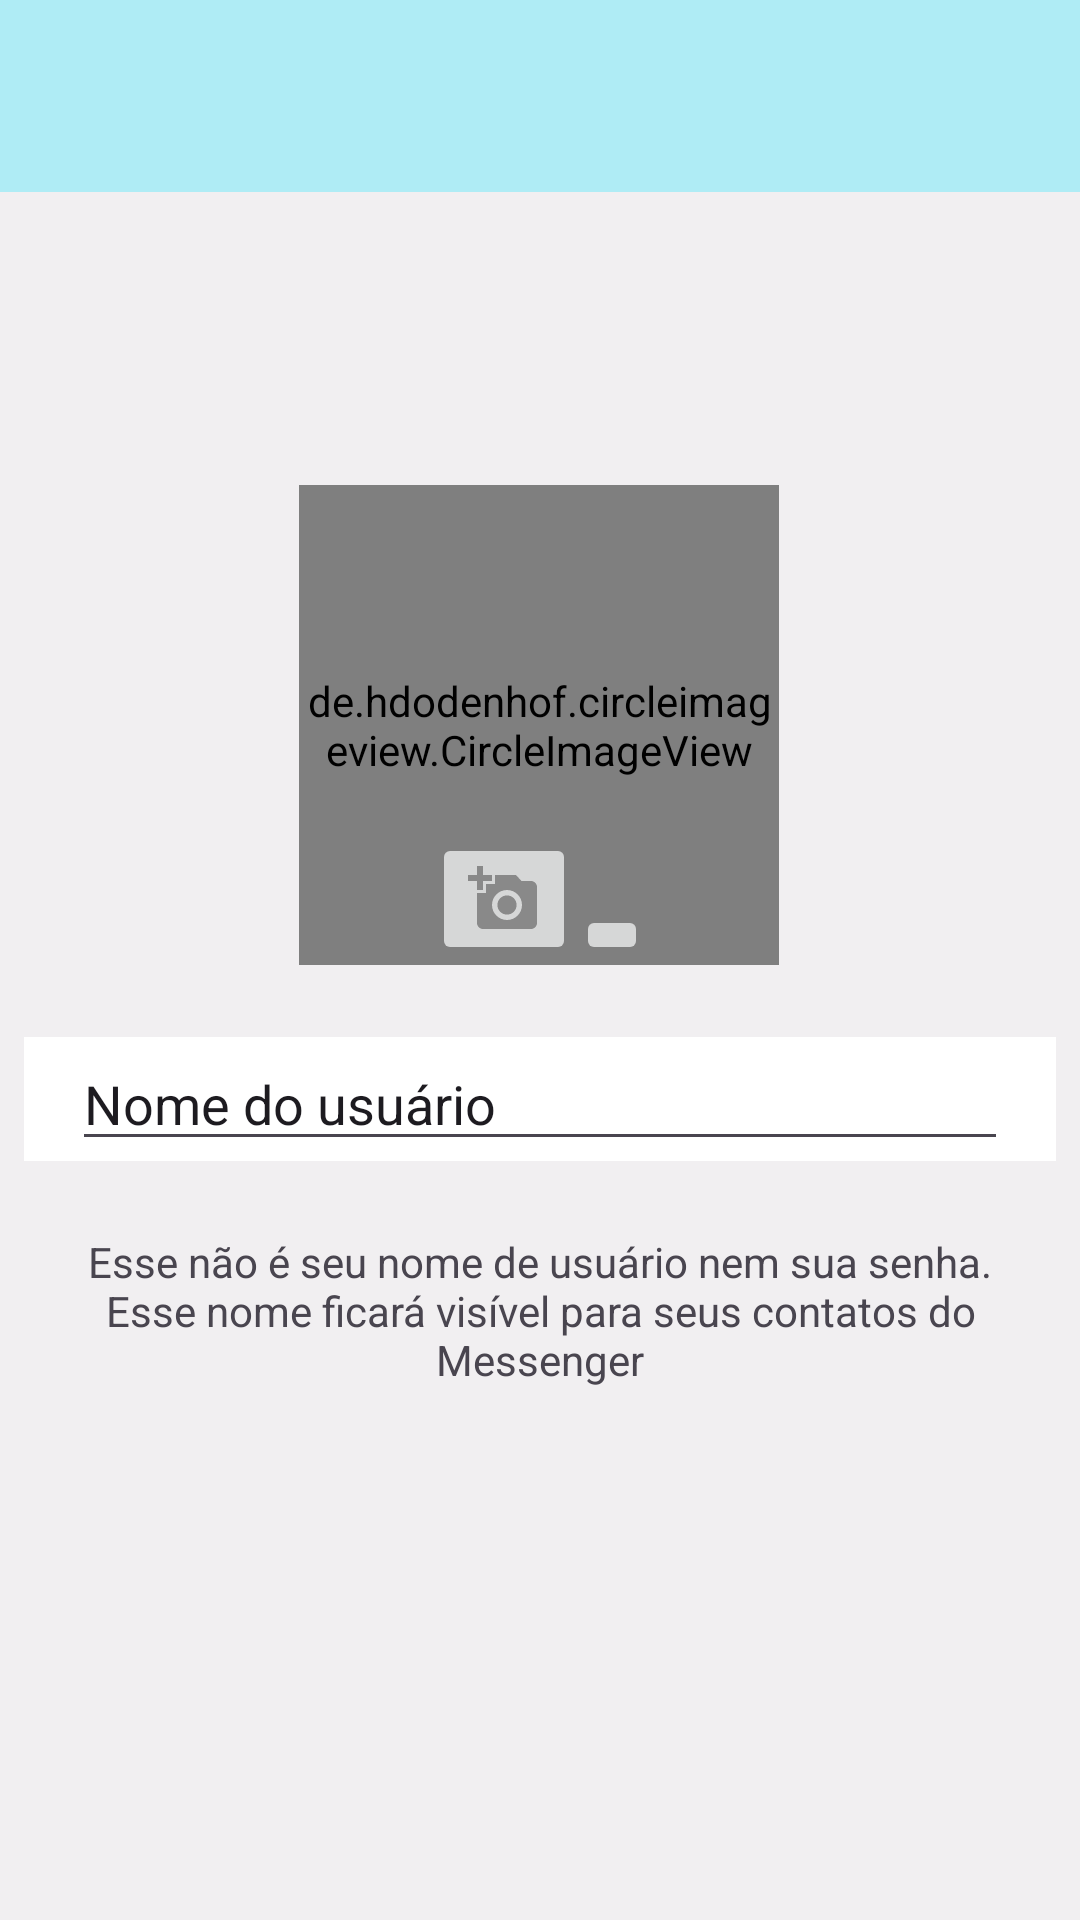

Icons on this 1080 x 1920 Android screen, each with its box as {"x1": x1, "y1": y1, "x2": x2, "y2": y2}:
camera cinza: {"x1": 444, "y1": 851, "x2": 564, "y2": 947}
